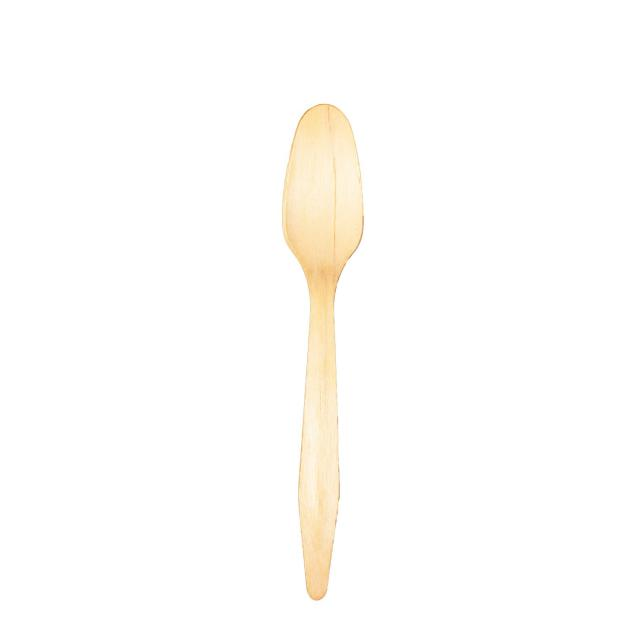spoon: (264, 89, 374, 607)
